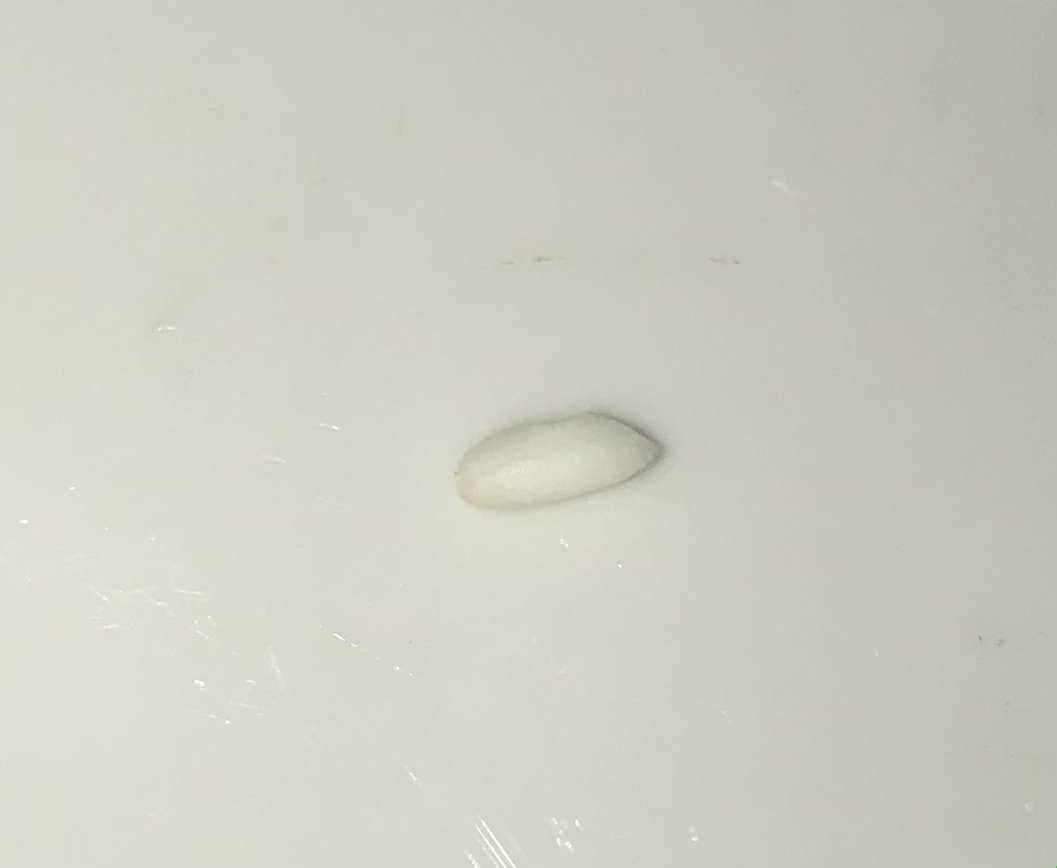Gao Nep Sap: (443, 405, 665, 510)
